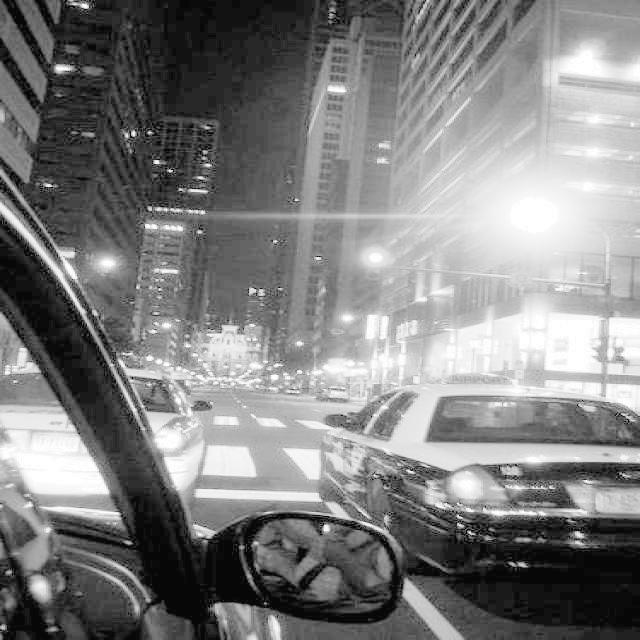Car: (345, 367, 640, 580), (0, 349, 231, 497)
